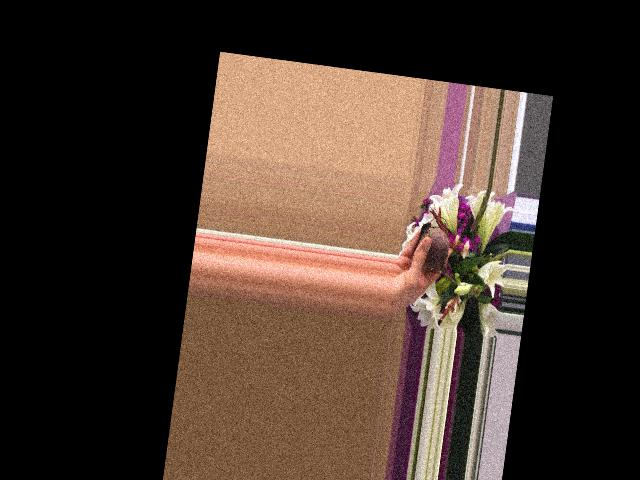beet: (413, 213, 474, 286)
